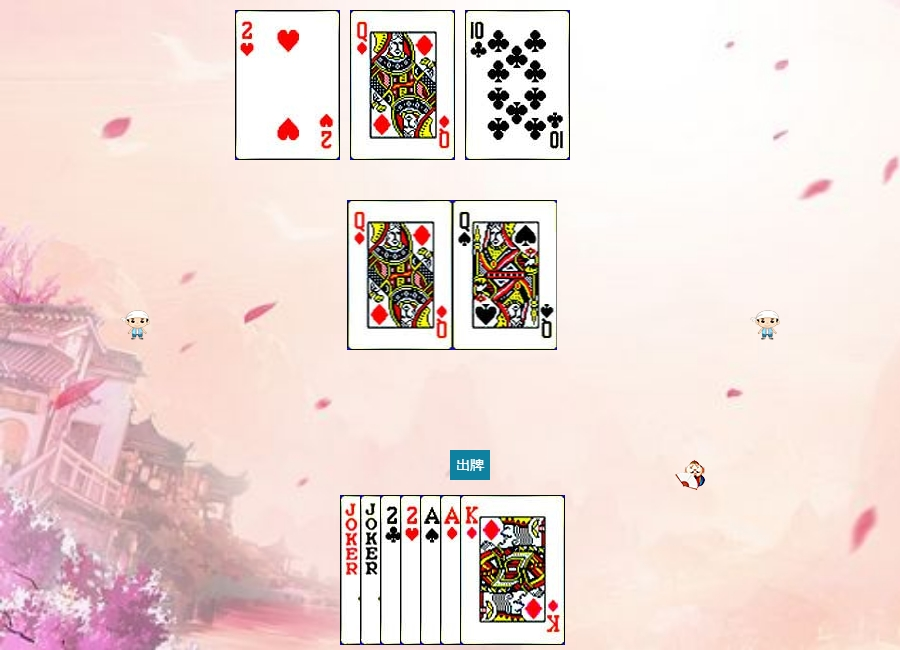10~2: (465, 10, 570, 160)
12~1: (350, 10, 455, 160), (348, 200, 453, 350)
12~4: (453, 200, 558, 350)
13~1: (460, 495, 565, 645)
14~1: (440, 495, 545, 645)
14~4: (420, 495, 525, 645)
15~2: (380, 495, 485, 645)
15~3: (235, 10, 340, 160), (400, 495, 505, 645)
17~3: (360, 495, 465, 645)
18~4: (340, 495, 445, 645)
